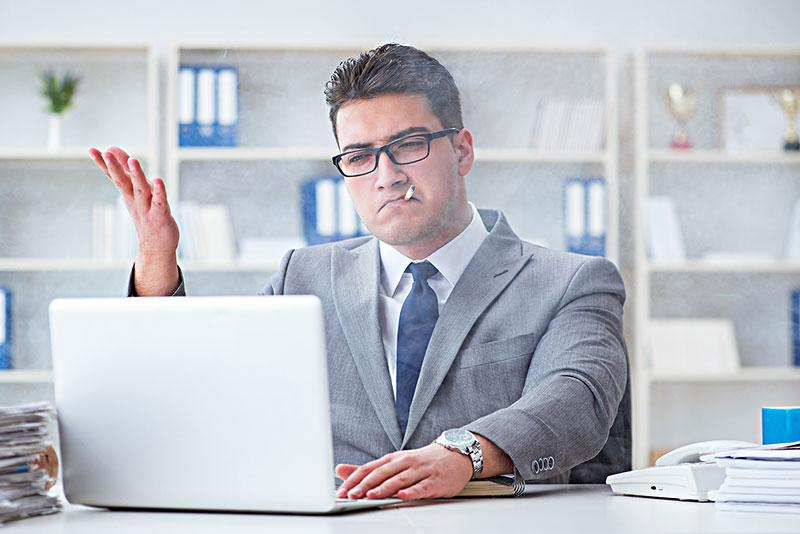smoke: (401, 181, 419, 203)
